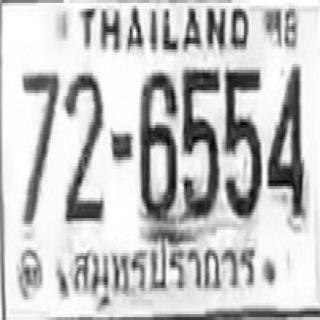N02: (63, 68, 102, 220)
N04: (266, 61, 304, 218)
N05: (223, 65, 260, 217), (182, 65, 219, 217)
N06: (139, 70, 176, 218)
N07: (21, 68, 58, 223)
P57: (71, 240, 259, 296)
